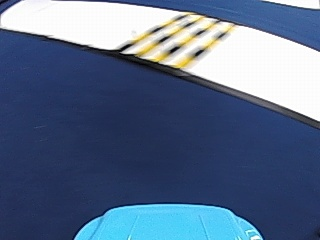bump: (111, 15, 225, 70)
